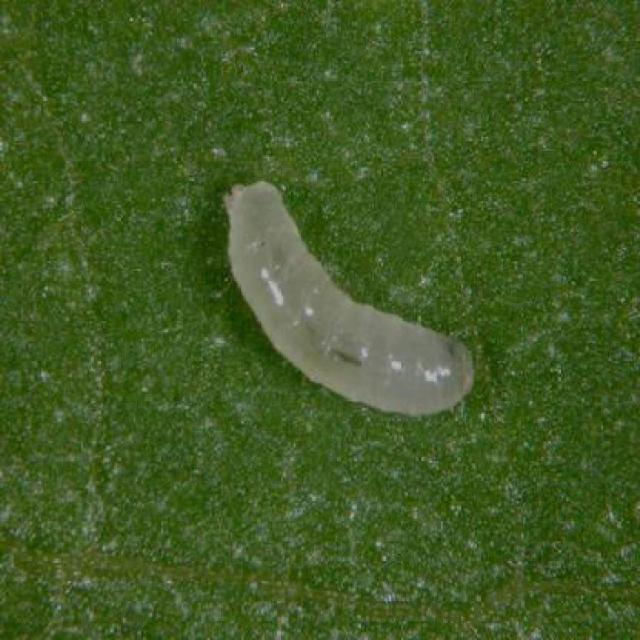whorl-maggot: (215, 166, 480, 434)
